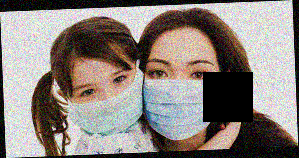with_mask: (144, 56, 222, 142), (65, 67, 146, 132)
